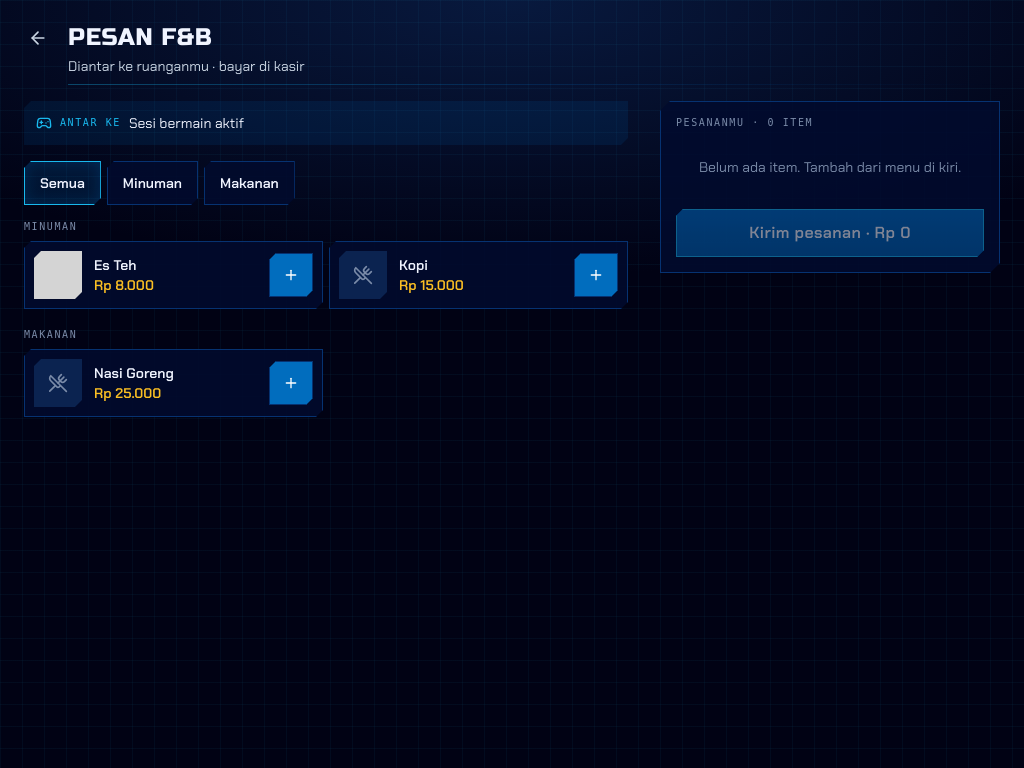
FnbOrderView › category chips filter the list (no horizontal scroll strip)
Click the button "Makanan" at (249, 183), box x1=204 y1=161 x2=295 y2=205
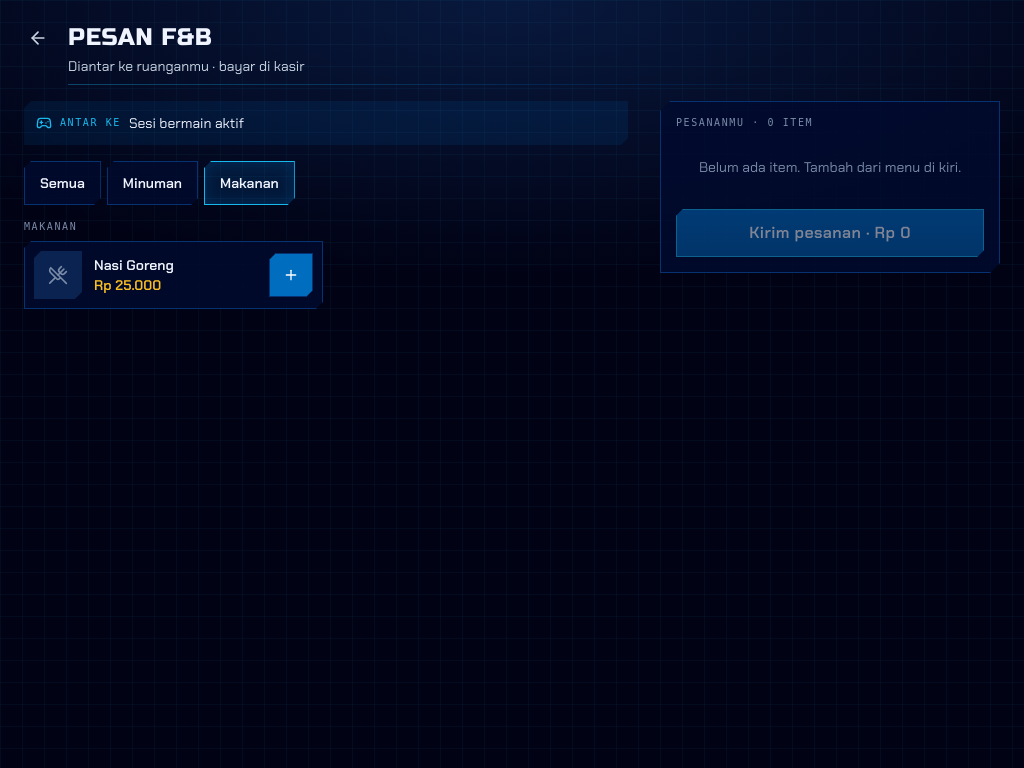
expect the text "Nasi Goreng" is shown: met, box x1=94 y1=256 x2=174 y2=274
expect the text "Es Teh" is gone: met
